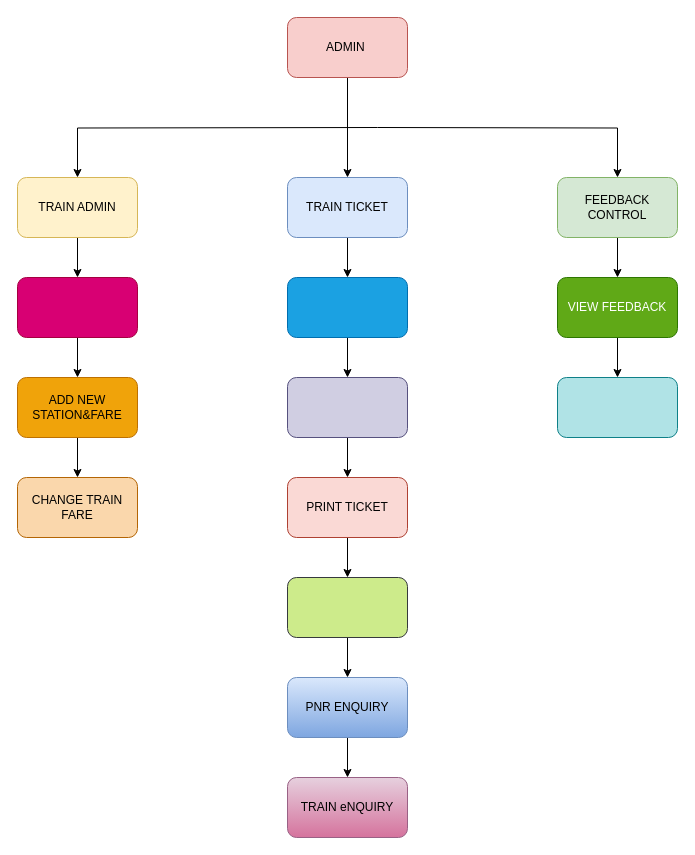
This 695x855 diagram has some shape labels left out. Each missing label, with the centre of its shape:
ADD NEW TRAIN: [77,307]
DELETE FEEDBACK: [617,407]
GENERAL TICKET: [347,407]
RESERVATION: [347,307]
TRAIN SCHEDULE: [347,607]
